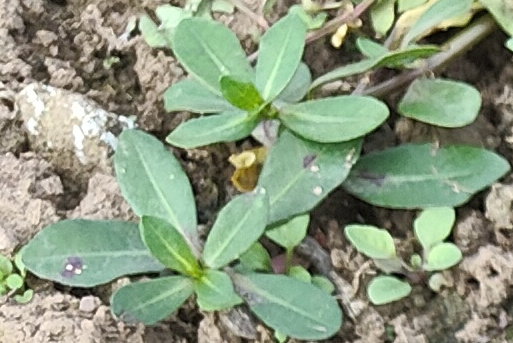旱莲草: (56, 10, 389, 320)
